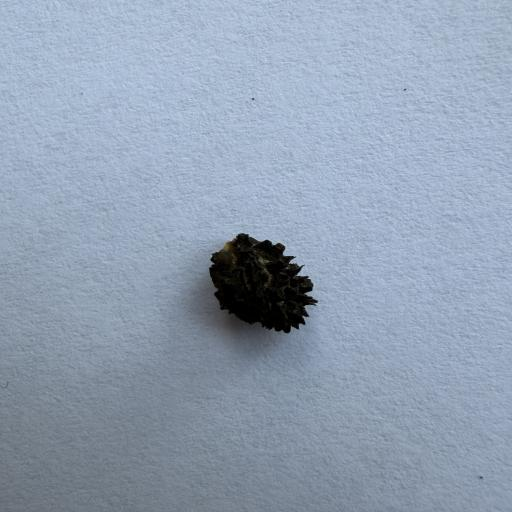papaya_seed: (183, 220, 344, 342)
